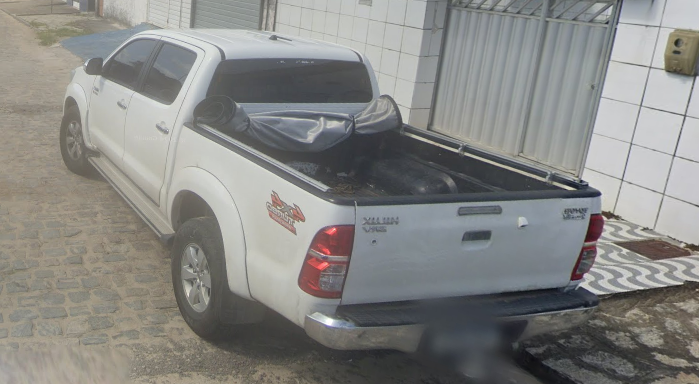car: (57, 22, 604, 370)
